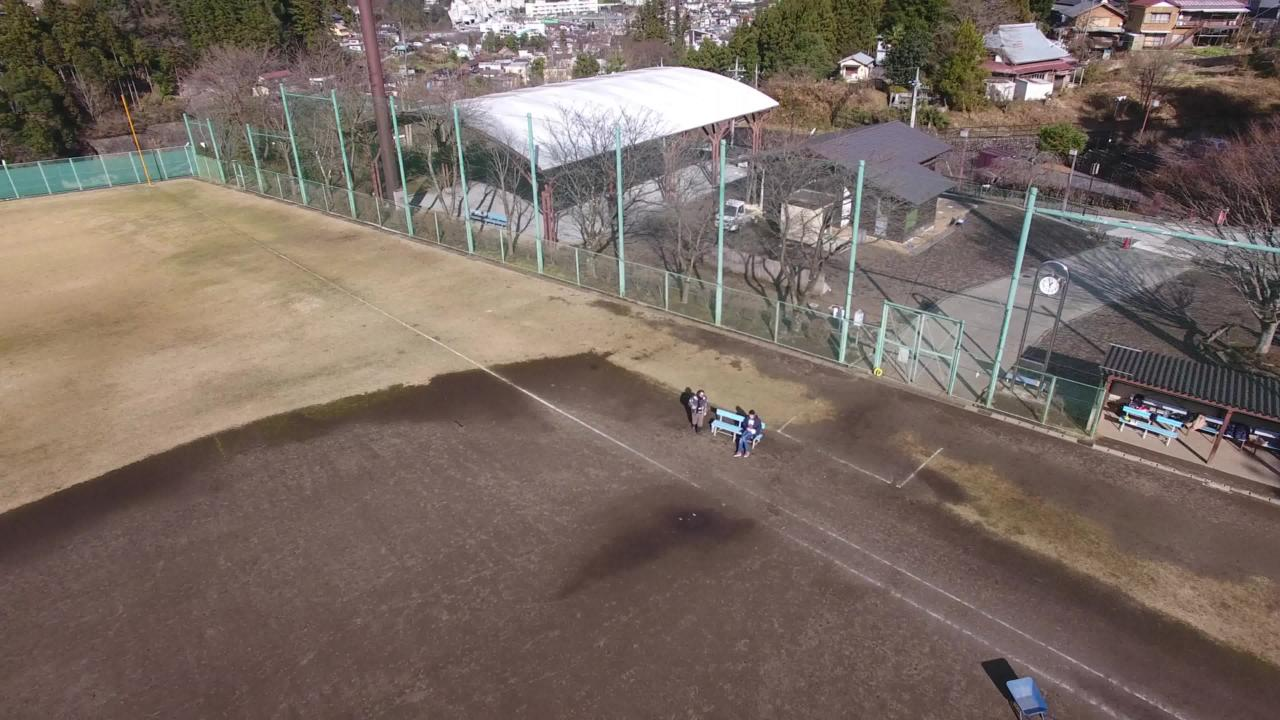car: (699, 191, 772, 235)
person: (677, 384, 713, 438), (731, 407, 767, 461)
